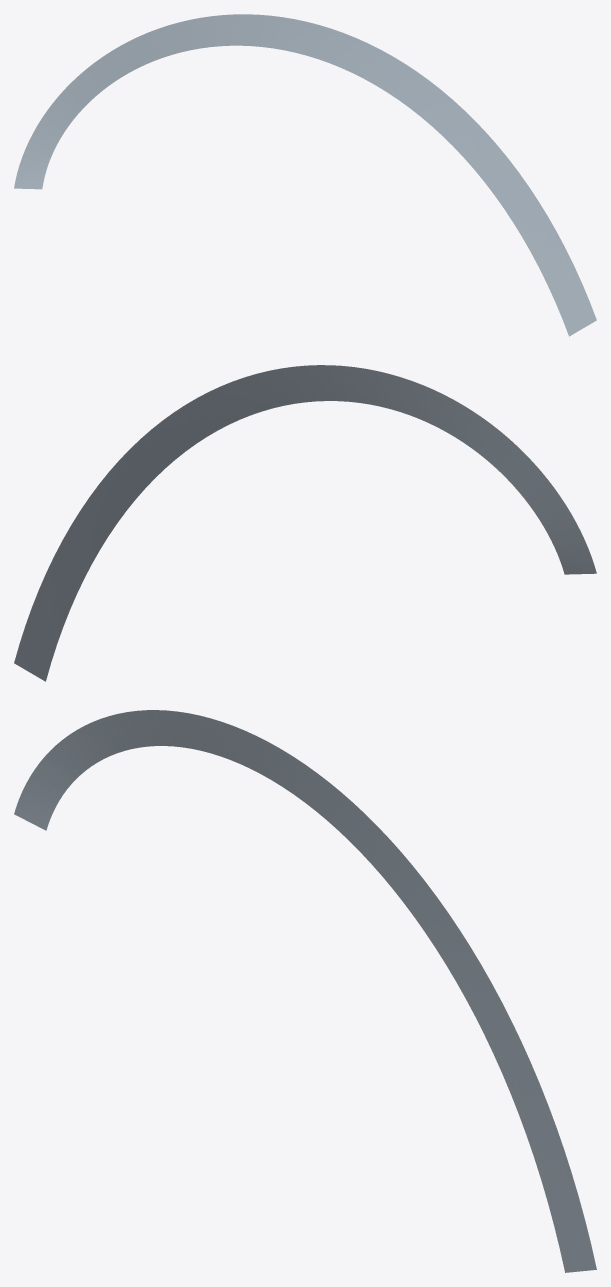
The model's file is Sucrose_AstableAnemohypostasisCreation_SingleTarget_GatheringWind_35_0.fbx.
The picture shows the model from 3 angles, top to bottom: view 1: azimuth 30°, elevation 25°; view 2: azimuth 150°, elevation 25°; view 3: azimuth 330°, elevation 25°; orthographic projection. The views are drawn at different scales.
Visible parts, largest first — view 1: PART_GatheringWind_35_0; view 2: PART_GatheringWind_35_0; view 3: PART_GatheringWind_35_0.
Part boxes in pixels (bbox=[...]): PART_GatheringWind_35_0: bbox=[14, 14, 596, 336]; PART_GatheringWind_35_0: bbox=[14, 365, 596, 681]; PART_GatheringWind_35_0: bbox=[14, 710, 596, 1272].
Bounding box in the file's own units: 131 × 85.86 × 16.
